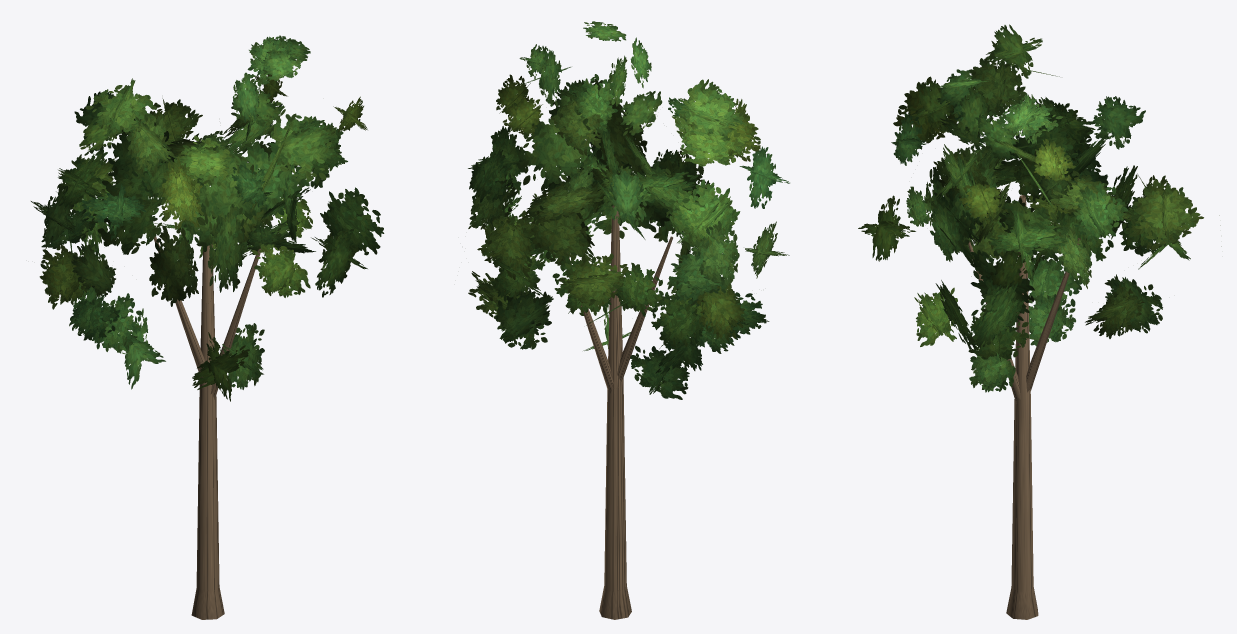
3 renders of one model, left to right at view 1: azimuth 30°, elevation 25°; view 2: azimuth 150°, elevation 25°; view 3: azimuth 270°, elevation 25°, orthographic. The views are drawn at different scales.
Parts seen in each view (by area): view 1: tree_4705; view 2: tree_4705; view 3: tree_4705.
Part boxes in pixels (<box>): tree_4705: <box>31,35,384,619</box>; tree_4705: <box>468,21,789,619</box>; tree_4705: <box>858,24,1221,619</box>.
Size of the model in its own units: 7.05 by 11.48 by 6.95.
1 material, 1 textured.
